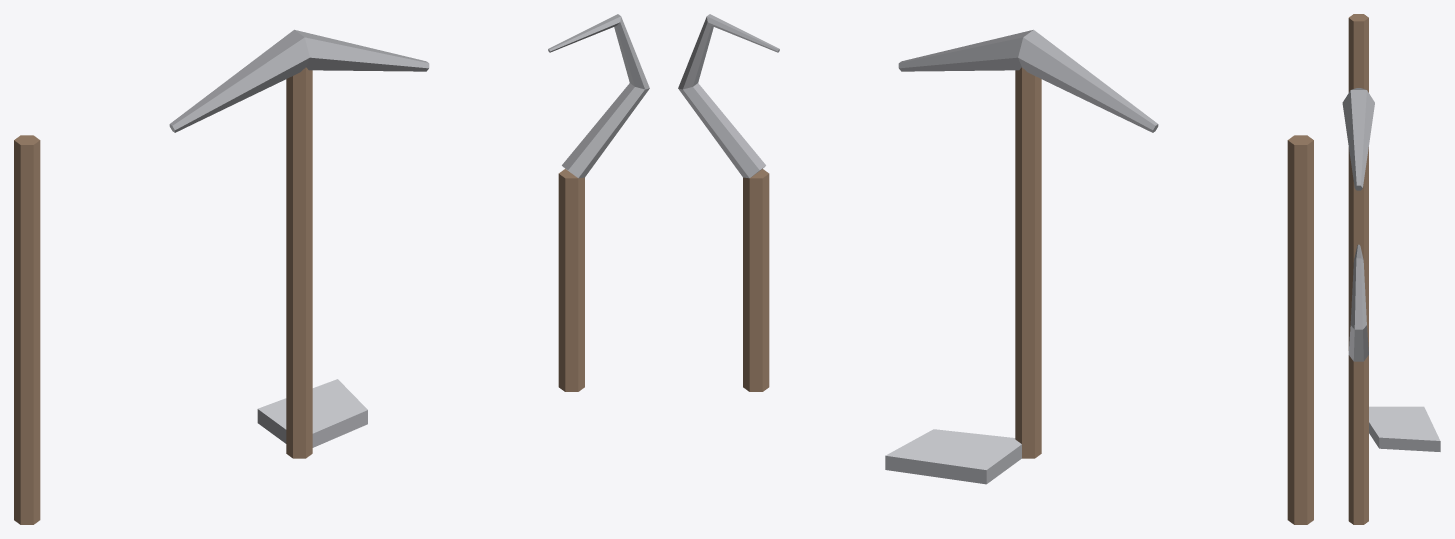
File: Tools.fbx
The picture shows the model from 3 angles, left to right: view 1: azimuth 30°, elevation 25°; view 2: azimuth 150°, elevation 25°; view 3: azimuth 270°, elevation 25°; orthographic projection. The views are drawn at different scales.
Visible parts, largest first — view 1: Res_Tools; view 2: Res_Tools; view 3: Res_Tools.
Boxes of the visible parts, box(x1,y1,x2,y2) form: Res_Tools: box(14, 14, 649, 524); Res_Tools: box(678, 14, 1313, 524); Res_Tools: box(1342, 14, 1440, 524).
Size of the model in its own units: 1.39 by 0.8846 by 0.24.
